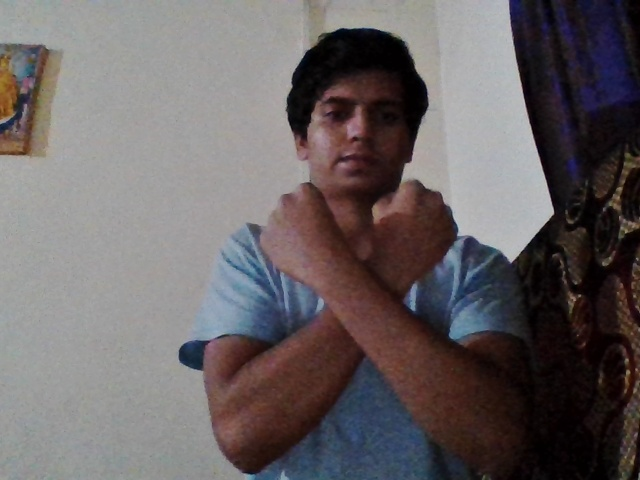Wakanda Forever: (256, 175, 455, 357)
